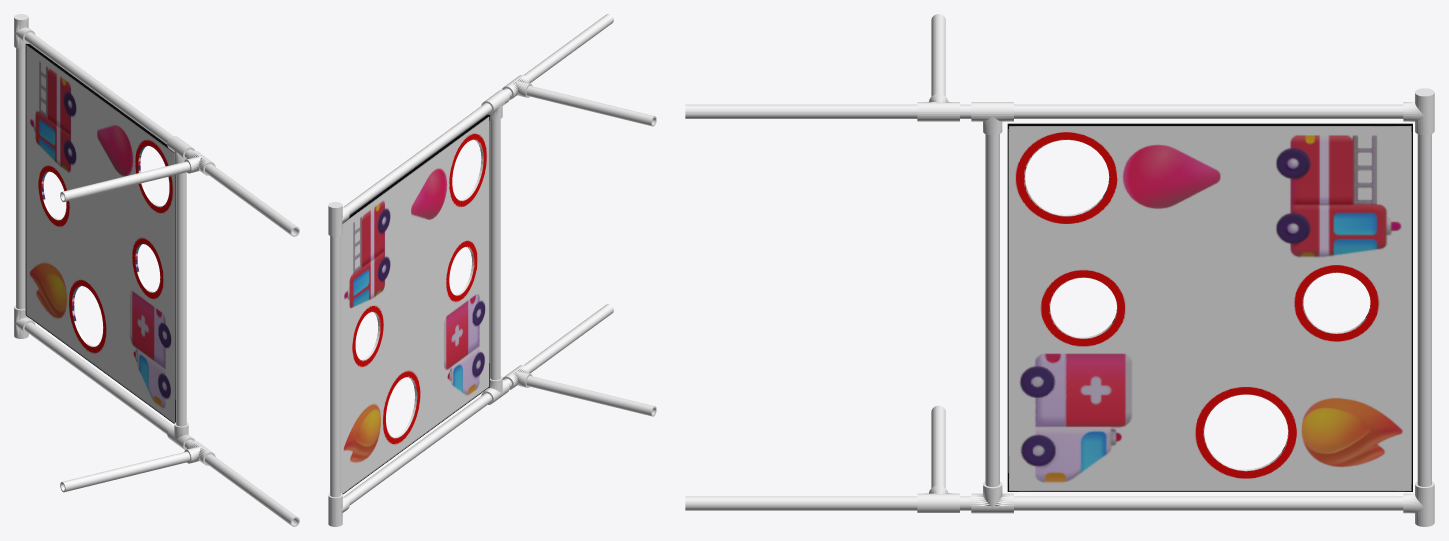
Rendered from torpboard_v1.obj.
3 renders of one model, left to right at view 1: azimuth 30°, elevation 25°; view 2: azimuth 150°, elevation 25°; view 3: azimuth 270°, elevation 25°, orthographic. The views are drawn at different scales.
Parts seen in each view (by area): view 1: torpboard_v1; view 2: torpboard_v1; view 3: torpboard_v1.
Part boxes in pixels (box(x1,y1,x2,y2)): torpboard_v1: box(14, 14, 299, 526); torpboard_v1: box(328, 14, 656, 526); torpboard_v1: box(685, 14, 1434, 526).
Size of the model in its own units: 0.3347 by 0.7035 by 1.11.
Materials: 1 (1 with a texture image).
